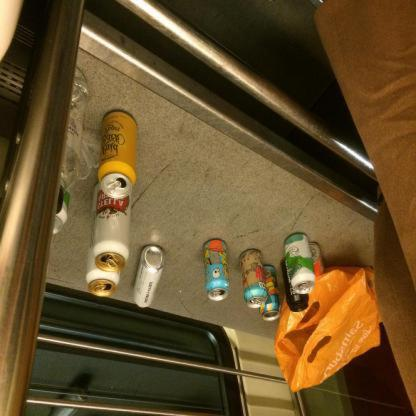Bottle cap: (56, 68, 88, 215)
Can: (86, 184, 120, 297), (92, 183, 131, 272), (98, 112, 137, 199), (134, 244, 166, 307), (284, 234, 315, 294), (203, 240, 230, 301), (240, 250, 268, 308), (280, 258, 309, 312), (259, 266, 281, 321), (53, 189, 72, 235), (310, 243, 326, 277)
Plastic bag - wrapper: (274, 266, 382, 393)
Pop tab: (107, 180, 121, 194), (106, 259, 118, 270), (301, 283, 310, 292), (94, 286, 106, 292), (253, 299, 262, 305), (311, 249, 317, 257), (212, 292, 221, 297)
